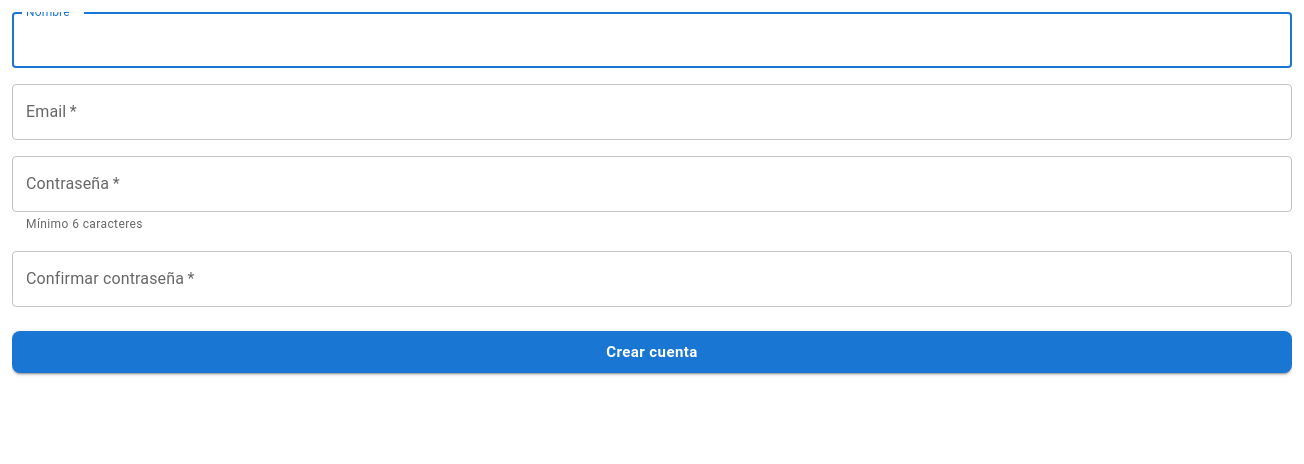
RegisterForm › shows error when name is too short
This screenshot has width=1304, height=464.
Type "A" into the field labelled "Nombre *".
click(652, 40); type("A")  # box [12,12,1292,68]
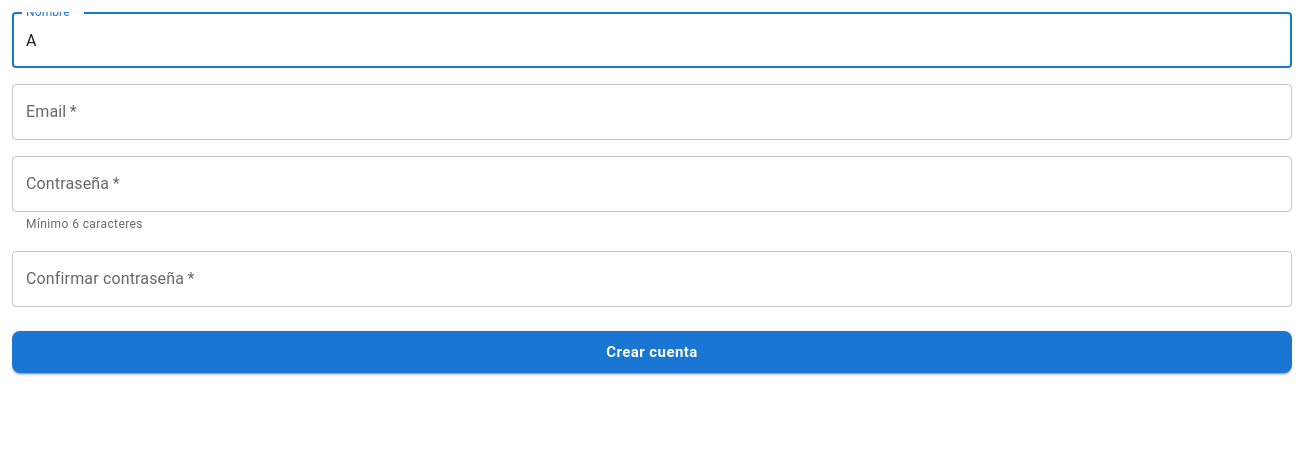
Type "a@b.com" into the field labelled "Email *".
click(652, 112); type("a@b.com")  # box [12,84,1292,140]
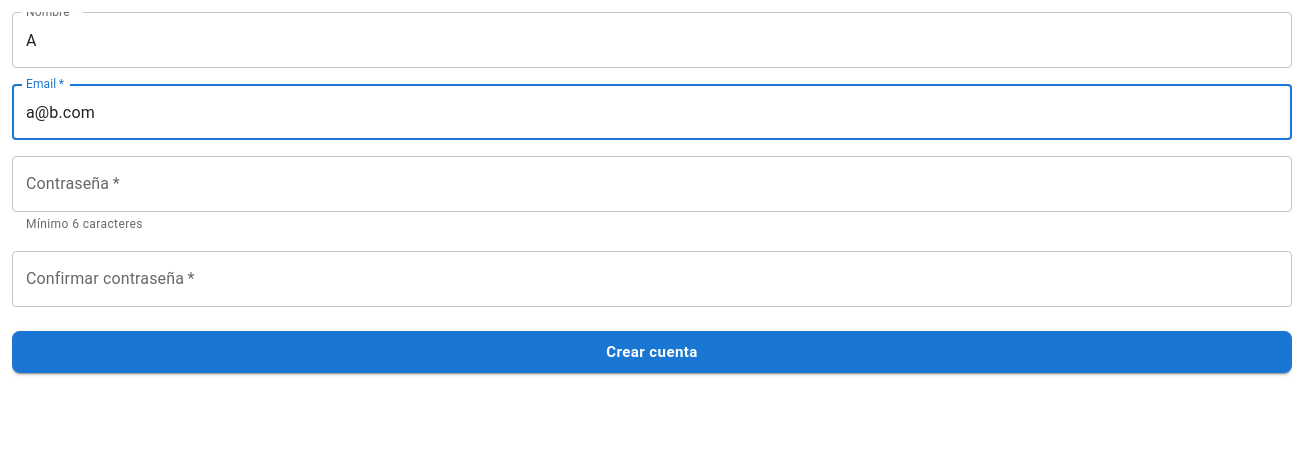
Type "123456" into the password field labelled "Contraseña *".
click(652, 184); type("123456")  # box [12,156,1292,212]
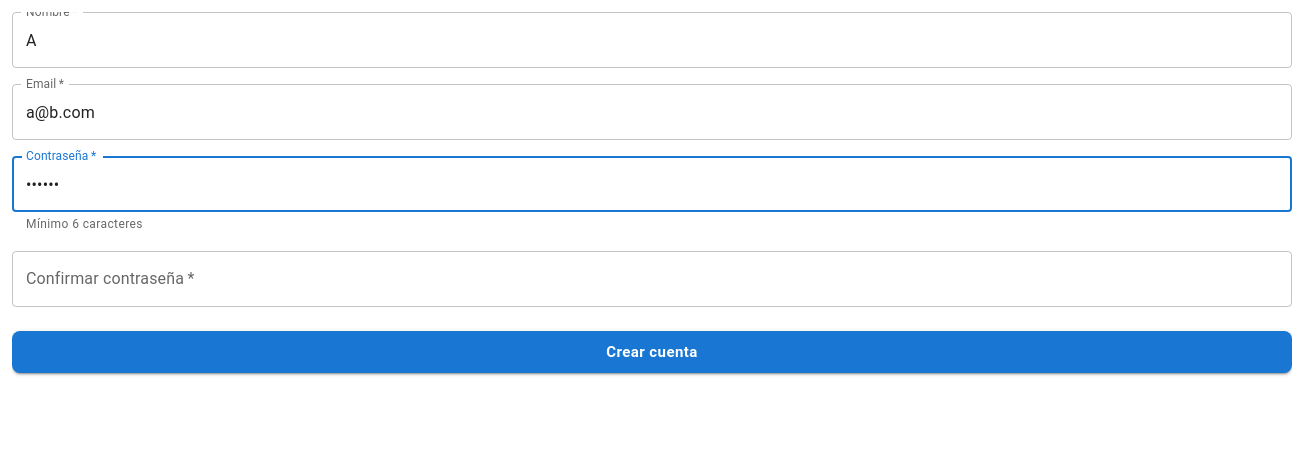
Type "123456" into the password field labelled "Confirmar contraseña *".
click(652, 279); type("123456")  # box [12,251,1292,307]
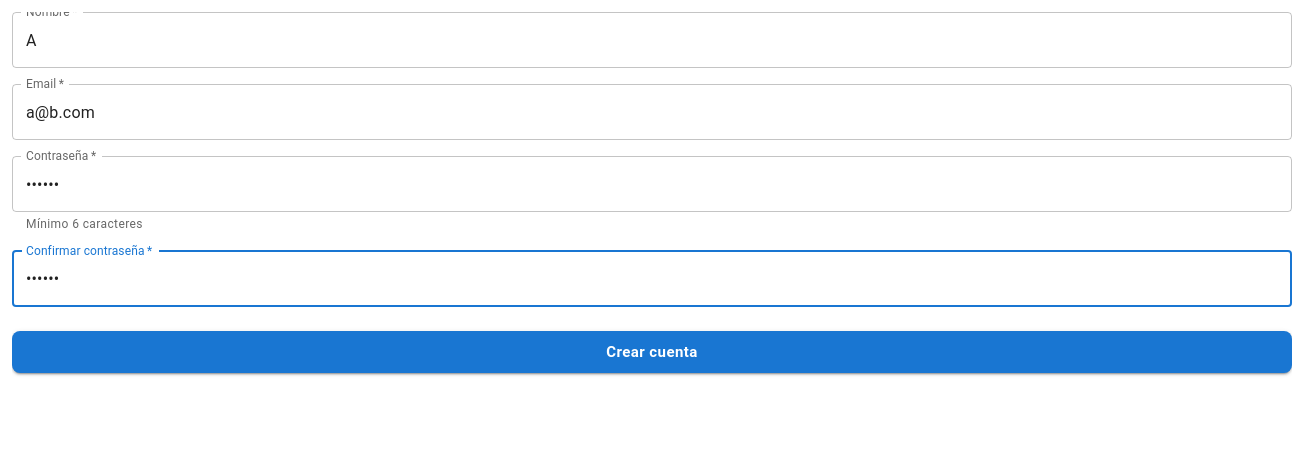
Click the button "Crear cuenta".
click(652, 352)  # box [12,331,1292,373]
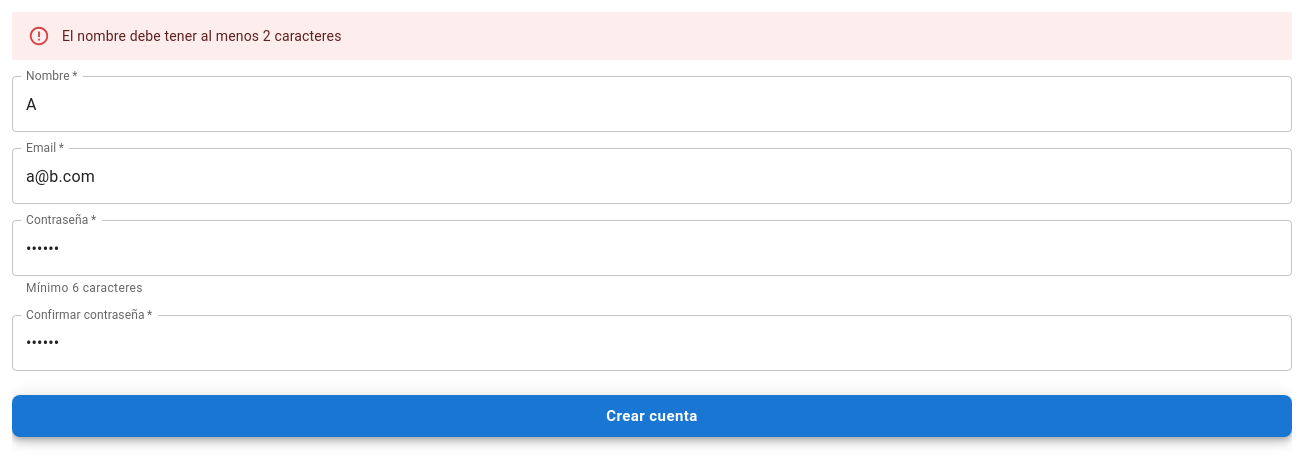
Result: the text "El nombre debe tener al menos 2 caracteres" is shown at [62,28,342,44]
